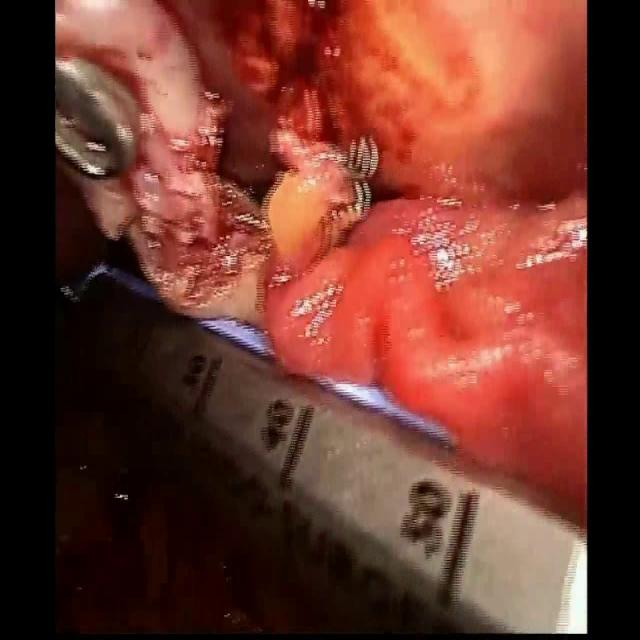surgical-area: (54, 0, 587, 634)
surgical-tool: (103, 310, 587, 634)
